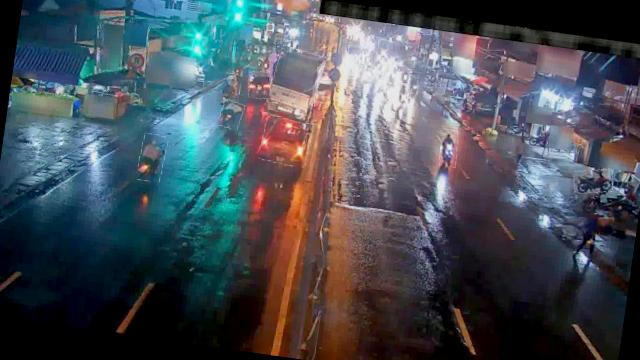Bike: (136, 133, 168, 184), (571, 166, 614, 196), (218, 98, 244, 130), (438, 131, 460, 168), (222, 73, 241, 98), (396, 82, 409, 108), (410, 74, 419, 94)
Car: (258, 114, 312, 168), (246, 70, 272, 100)
Truck: (265, 46, 325, 124)
